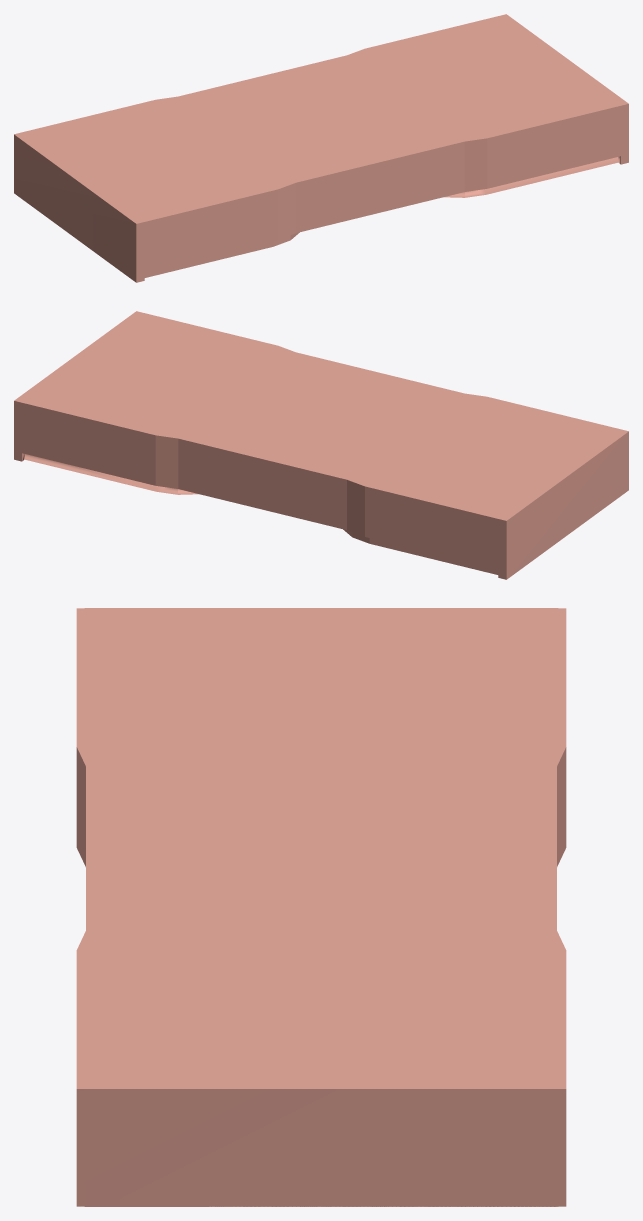
The model's file is lab section observation collider mesh.fbx.
3 renders of one model, top to bottom at view 1: azimuth 30°, elevation 25°; view 2: azimuth 150°, elevation 25°; view 3: azimuth 270°, elevation 25°, orthographic. The views are drawn at different scales.
Visible parts, largest first — view 1: Observation rooms.001; view 2: Observation rooms.001; view 3: Observation rooms.001.
Boxes of the visible parts, bbox=[...] form: Observation rooms.001: bbox=[14, 14, 628, 282]; Observation rooms.001: bbox=[14, 311, 628, 579]; Observation rooms.001: bbox=[76, 608, 566, 1206].
Bounding box in the file's own units: 6125 × 2637 × 700.
